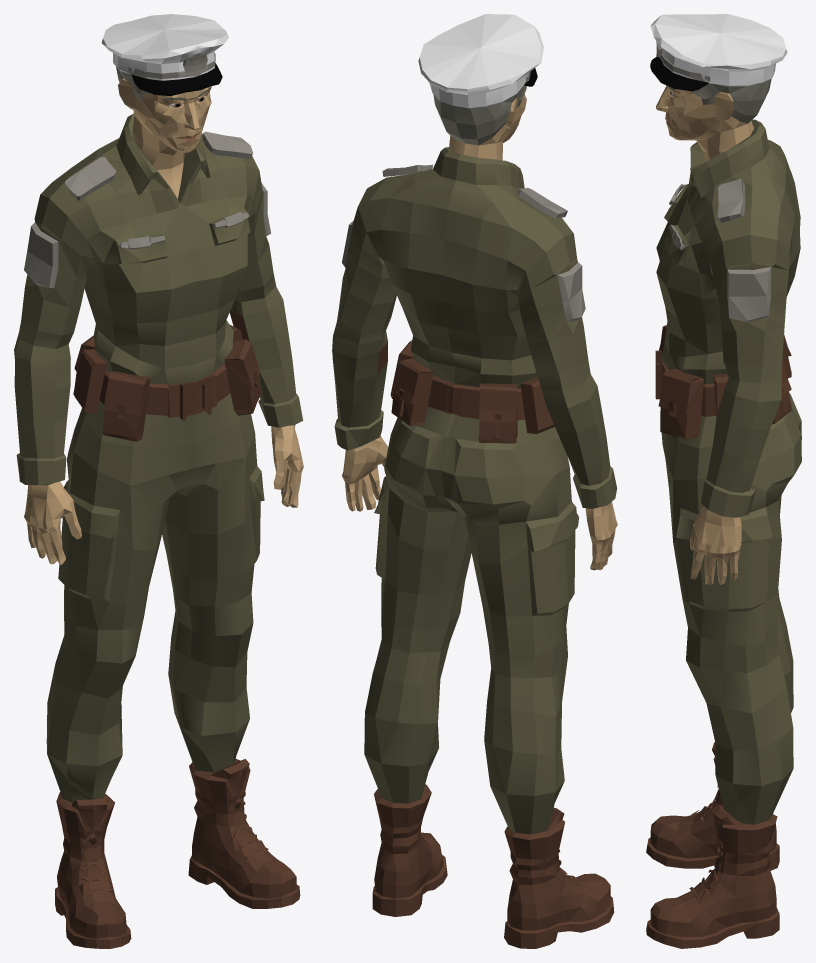
The model's file is Officer female.fbx.
3 views of the same model, side by side, from view 1: azimuth 30°, elevation 25°; view 2: azimuth 150°, elevation 25°; view 3: azimuth 270°, elevation 25° (orthographic).
Parts seen in each view (by area): view 1: Officer female.001; view 2: Officer female.001; view 3: Officer female.001.
Boxes of the visible parts, x1,y1,x2,y2 form: Officer female.001: (14,14,303,948); Officer female.001: (332,14,617,948); Officer female.001: (646,14,801,948).
Size of the model in its own units: 32.2 by 98.56 by 15.96.
